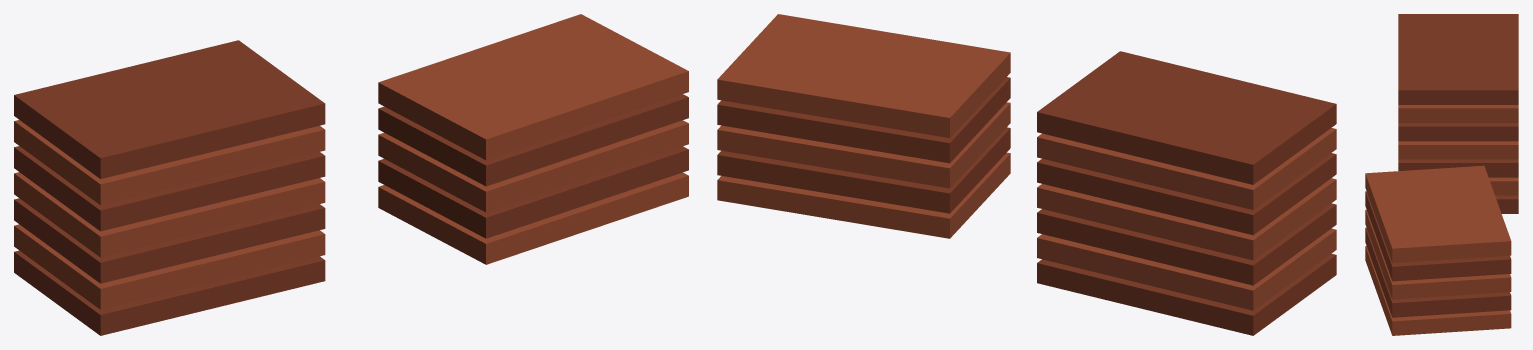
Rendered from pile_roof_tiles_1.glb.
3 renders of one model, left to right at view 1: azimuth 30°, elevation 25°; view 2: azimuth 150°, elevation 25°; view 3: azimuth 270°, elevation 25°, orthographic. The views are drawn at different scales.
Parts seen in each view (by area): view 1: pile_roof_tiles_1; view 2: pile_roof_tiles_1; view 3: pile_roof_tiles_1.
Part boxes in pixels (box(x1,y1,x2,y2)): pile_roof_tiles_1: box(14, 14, 688, 335); pile_roof_tiles_1: box(717, 14, 1336, 335); pile_roof_tiles_1: box(1365, 14, 1518, 335).
Bounding box in the file's own units: 1.17 × 0.34 × 0.3819.
